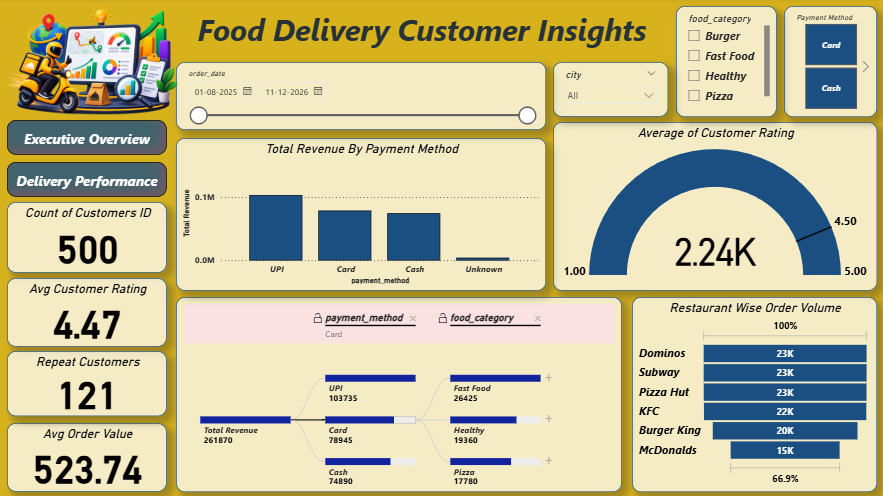

The dashboard page shown, as its layout file describes it:
{"tool":"powerbi","page":{"name":"Customer Insights","canvas":[1280,720],"ordinal":2},"visuals":[{"type":"card","title":"Avg Order Value","fields":{"Values":["food_delivery.Average Order Value"]},"box":[13,612,230.4,99.4],"z":0},{"type":"card","title":"Count of Customers ID","fields":{"Values":["Count(food_delivery.customer_id)"]},"box":[13,293.8,230.4,102.2],"z":1000},{"type":"card","title":"Avg Customer Rating","fields":{"Values":["Avg(food_delivery.customer_rating)"]},"box":[13,403.2,230.4,99.4],"z":2000},{"type":"card","title":"Repeat Customers","fields":{"Values":["food_delivery.Repeat Customers"]},"box":[13,508.3,230.4,93.6],"z":3000},{"type":"gauge","title":"Average of Customer Rating","fields":{"Y":["Sum(food_delivery.customer_rating)"]},"box":[799.2,178.6,466.6,243.4],"z":4000},{"type":"funnel","title":"Restaurant Wise Order Volume","fields":{"Category":["food_delivery.restaurant_name"],"Y":["Sum(food_delivery.order_id)"]},"box":[913,430.6,352.8,280.8],"z":5000},{"type":"decompositionTreeVisual","fields":{"Analyze":["food_delivery.Total Revenue"],"ExplainBy":["food_delivery.payment_method","food_delivery.food_category","food_delivery.restaurant_name","food_delivery.city"]},"box":[256.3,430.6,642.2,280.8],"z":6000},{"type":"columnChart","title":"Total Revenue By Payment Method","fields":{"Category":["food_delivery.payment_method"],"Y":["food_delivery.Total Revenue"]},"box":[256.3,201.6,532.8,220.3],"z":7000},{"type":"slicer","fields":{"Values":["food_delivery.payment_method"]},"box":[1131.8,11.5,133.9,159.8],"z":8000},{"type":"slicer","fields":{"Values":["food_delivery.food_category"]},"box":[976.3,11.5,145.4,159.8],"z":9000},{"type":"slicer","fields":{"Values":["food_delivery.city"]},"box":[799.2,92.2,165.6,79.2],"z":10000},{"type":"slicer","fields":{"Values":["food_delivery.order_date"]},"box":[256.3,92.2,532.8,97.9],"z":11000},{"type":"textbox","box":[256.3,11.5,708.5,69.1],"z":12000},{"type":"image","box":[0,0,267.8,178.6],"z":13000},{"type":"actionButton","box":[13,175.7,230.4,50.4],"z":14000},{"type":"actionButton","box":[13,236.2,230.4,50.4],"z":15000}]}

Visuals, with their boxes in screenshot pixels (x1, y1, x2, y2), scaled from the page's 1280x720 canvas onto the 883x496 screenshot:
"Avg Order Value" card: <bbox>9, 422, 168, 490</bbox>
"Count of Customers ID" card: <bbox>9, 202, 168, 273</bbox>
"Avg Customer Rating" card: <bbox>9, 278, 168, 346</bbox>
"Repeat Customers" card: <bbox>9, 350, 168, 415</bbox>
"Average of Customer Rating" gauge: <bbox>551, 123, 873, 291</bbox>
"Restaurant Wise Order Volume" funnel: <bbox>630, 297, 873, 490</bbox>
decompositionTreeVisual - food_delivery.Total Revenue x food_delivery.payment_method: <bbox>177, 297, 620, 490</bbox>
"Total Revenue By Payment Method" columnChart: <bbox>177, 139, 544, 291</bbox>
slicer - food_delivery.payment_method: <bbox>781, 8, 873, 118</bbox>
slicer - food_delivery.food_category: <bbox>673, 8, 774, 118</bbox>
slicer - food_delivery.city: <bbox>551, 64, 666, 118</bbox>
slicer - food_delivery.order_date: <bbox>177, 64, 544, 131</bbox>
textbox: <bbox>177, 8, 666, 56</bbox>
image: <bbox>0, 0, 185, 123</bbox>
actionButton: <bbox>9, 121, 168, 156</bbox>
actionButton: <bbox>9, 163, 168, 197</bbox>
